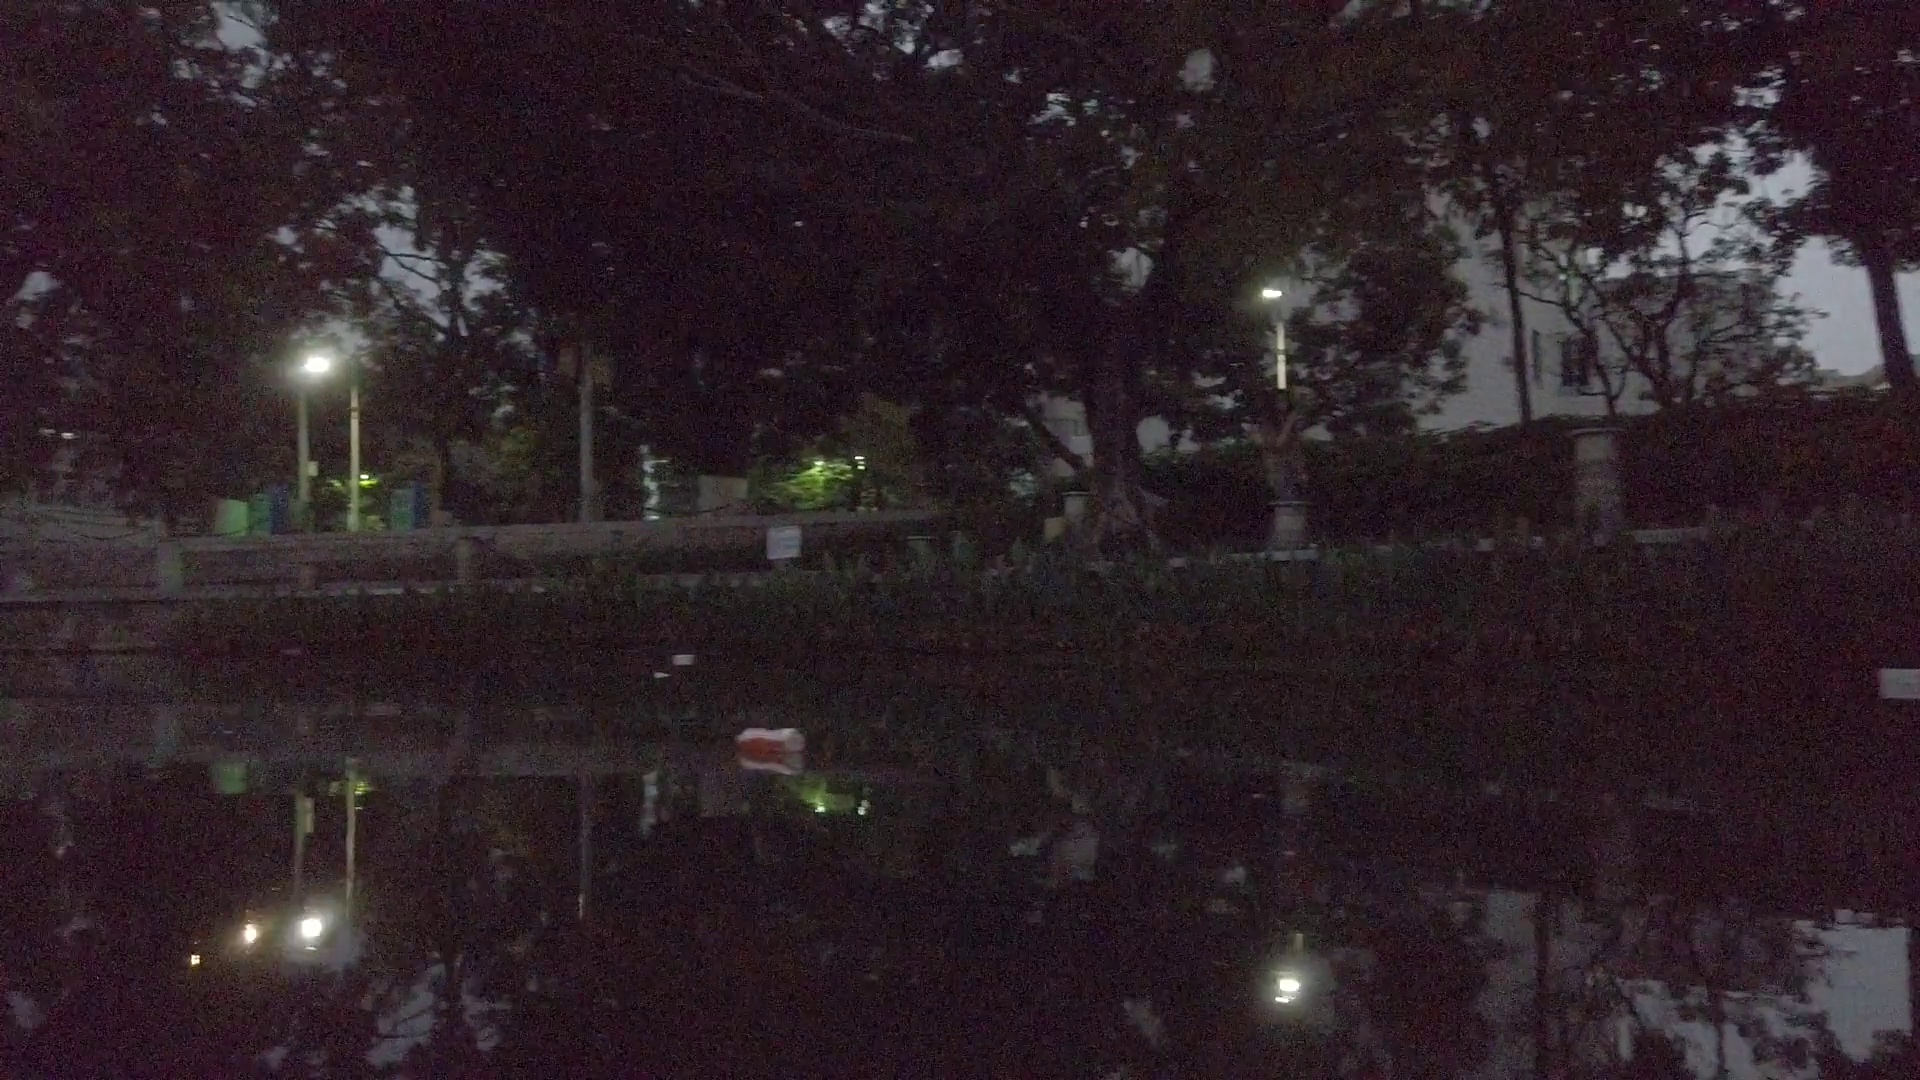bottle: (735, 727, 806, 753)
carton: (1880, 666, 1917, 704), (670, 647, 696, 667)
paper: (654, 669, 670, 683)
